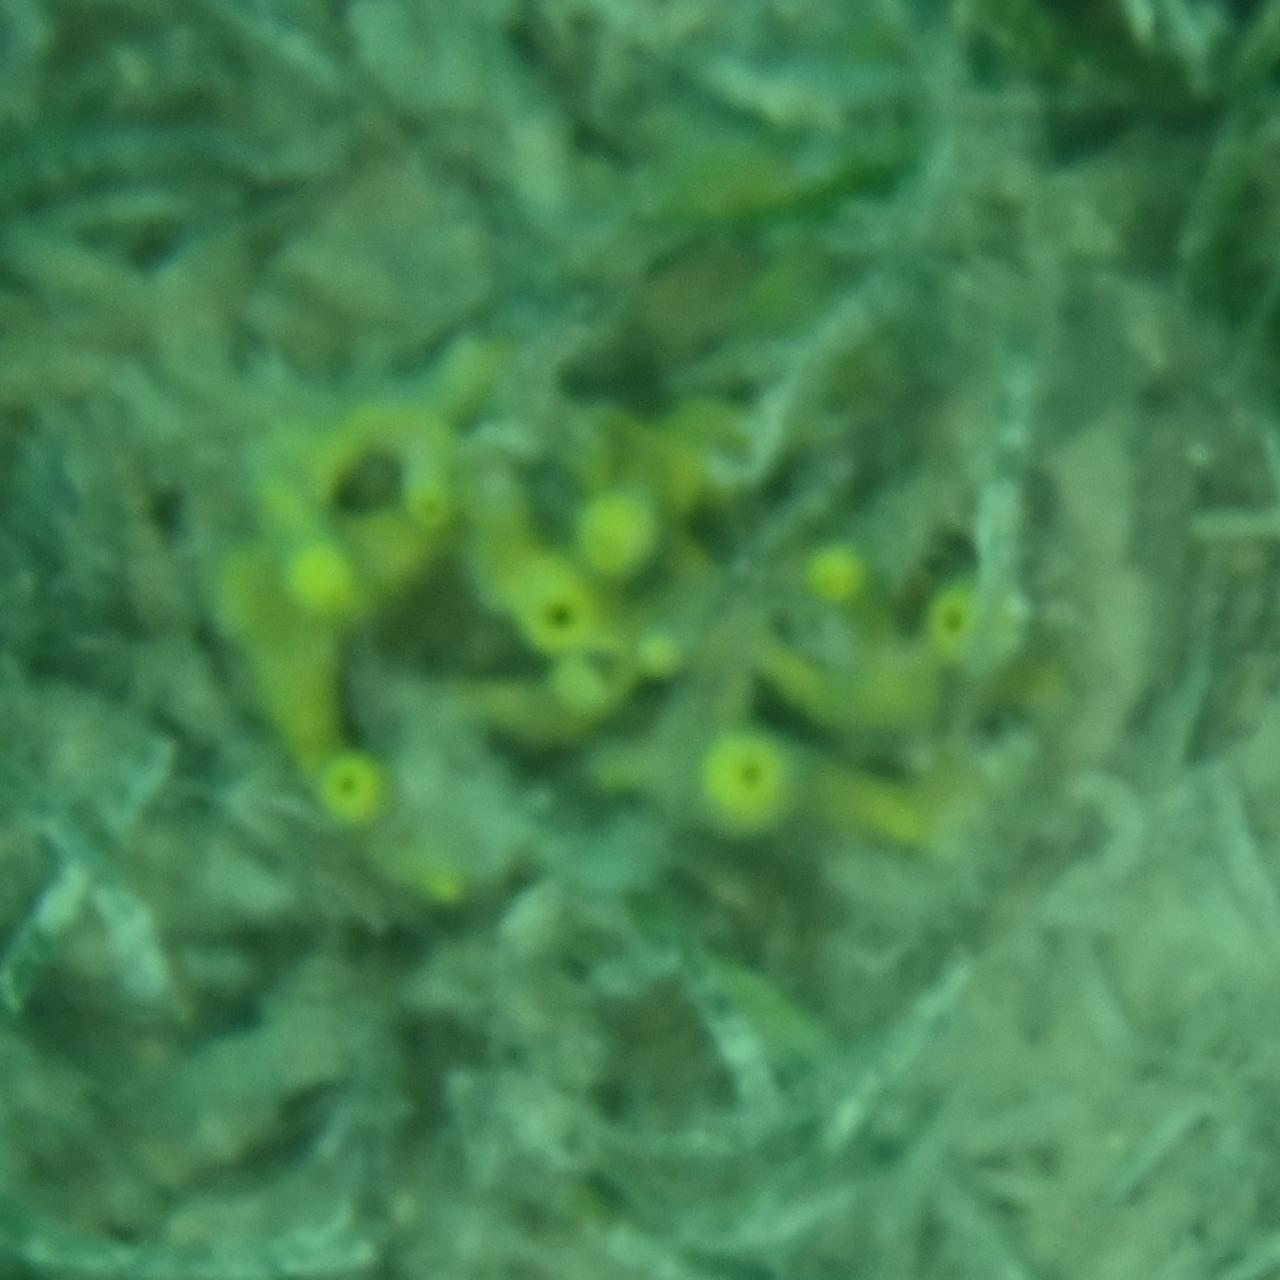Aplysina aerophoba: (186, 343, 1094, 937)
